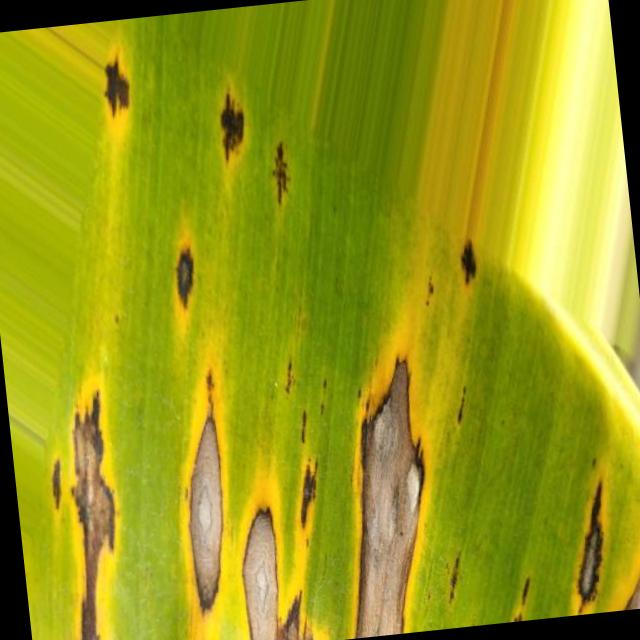Banana_Yellow_Sigatoka: (305, 359, 478, 640), (17, 358, 157, 640), (160, 351, 248, 627), (220, 439, 322, 640), (548, 441, 640, 616), (156, 212, 239, 324), (188, 58, 271, 168), (433, 205, 522, 306), (84, 31, 164, 138)
